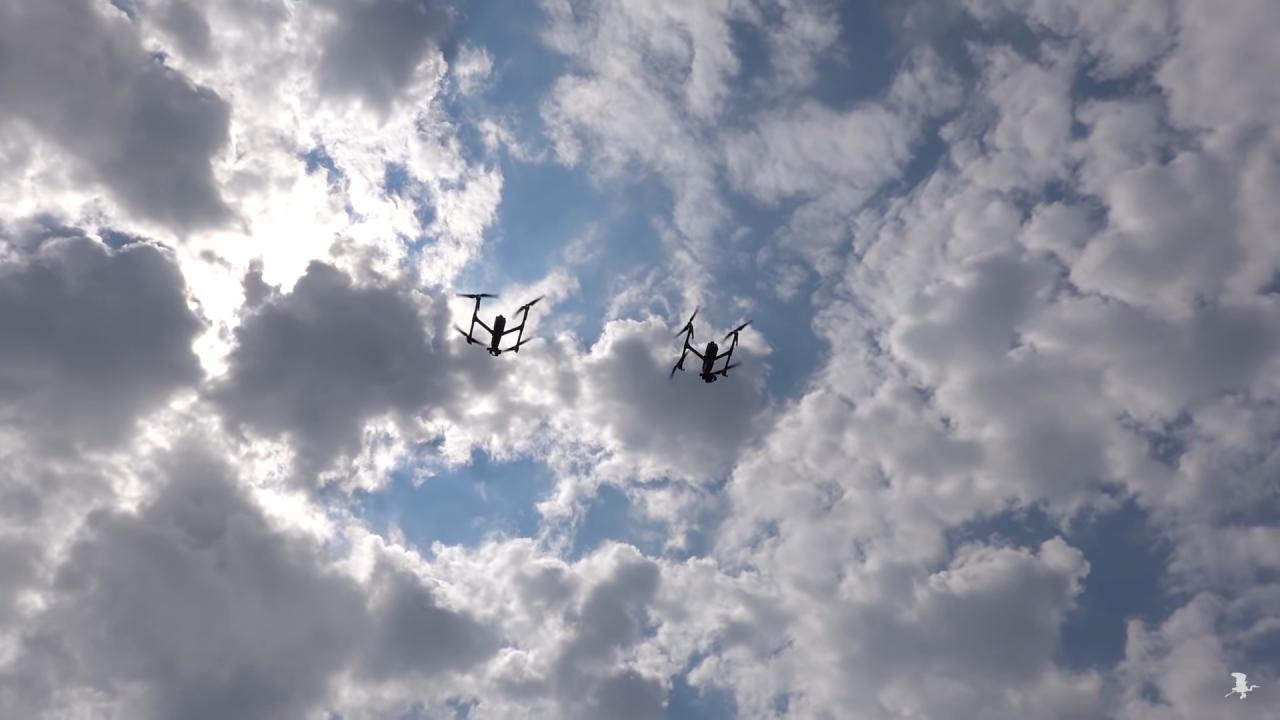Drone: (448, 286, 554, 362), (663, 304, 758, 386)
